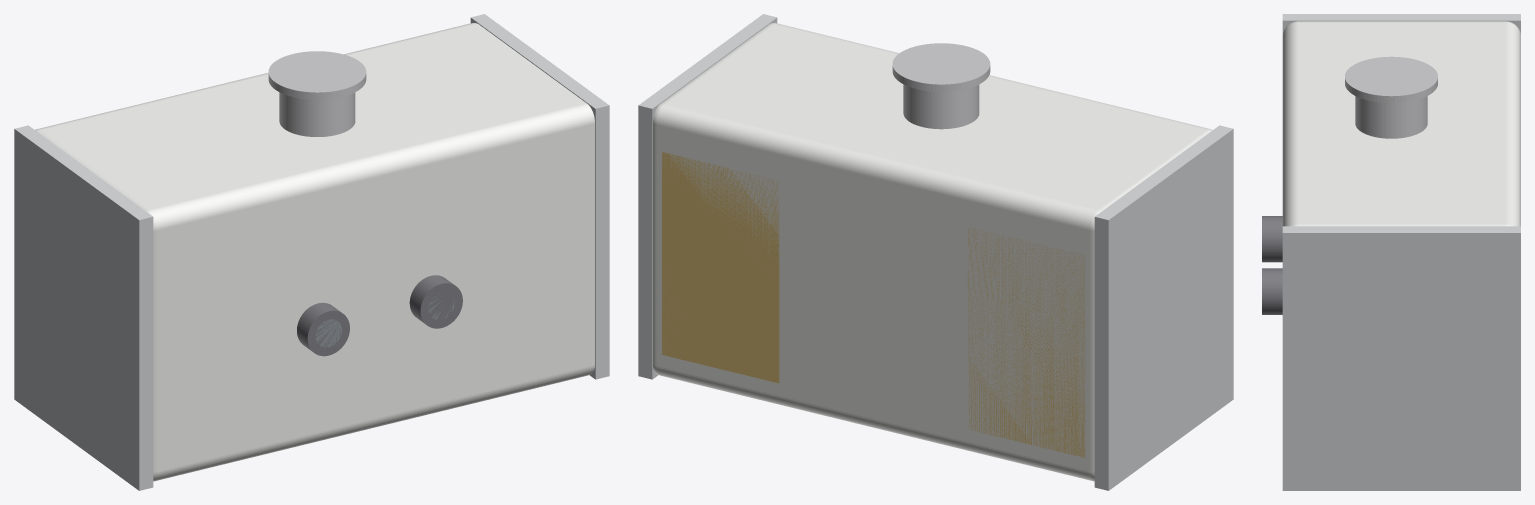
Rendered from rover21_control_core.glb.
3 views of the same model, side by side, from view 1: azimuth 30°, elevation 25°; view 2: azimuth 150°, elevation 25°; view 3: azimuth 270°, elevation 25° (orthographic). The views are drawn at different scales.
Parts seen in each view (by area): view 1: body, frame, nav_mount, hazcams; view 2: body, frame, gold_panels, nav_mount; view 3: frame, body, nav_mount, hazcams.
Part boxes in pixels (x1,y1,x2,y2): body: (35,23,594,481); frame: (14,14,609,490); nav_mount: (268,51,366,136); hazcams: (297,275,462,356); body: (653,23,1212,481); frame: (638,14,1233,490); gold_panels: (662,152,1085,457); nav_mount: (892,43,990,129); frame: (1282,14,1520,490); body: (1282,21,1520,226); nav_mount: (1345,56,1437,138); hazcams: (1262,216,1282,314).
Bounding box in the file's own units: 1 × 0.65 × 0.5.
